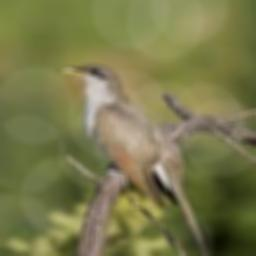Cuckoo: (57, 63, 209, 254)
